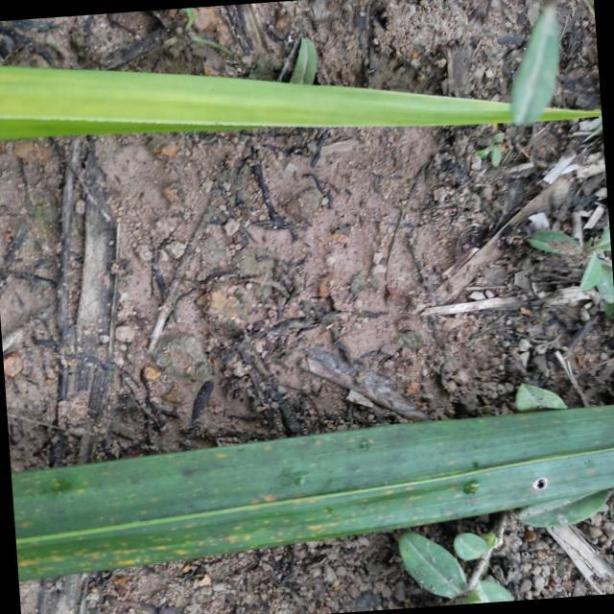nitrogen: (0, 62, 614, 131)
